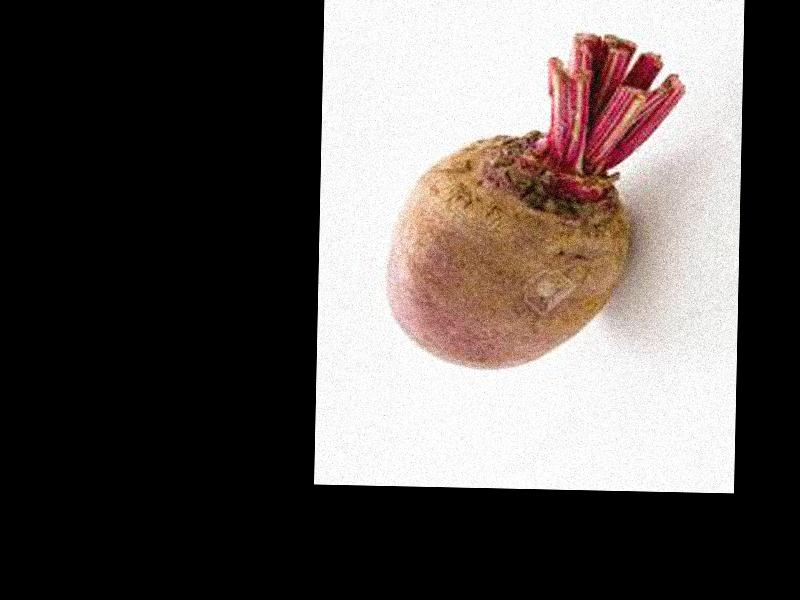Beet: (383, 29, 688, 374)
